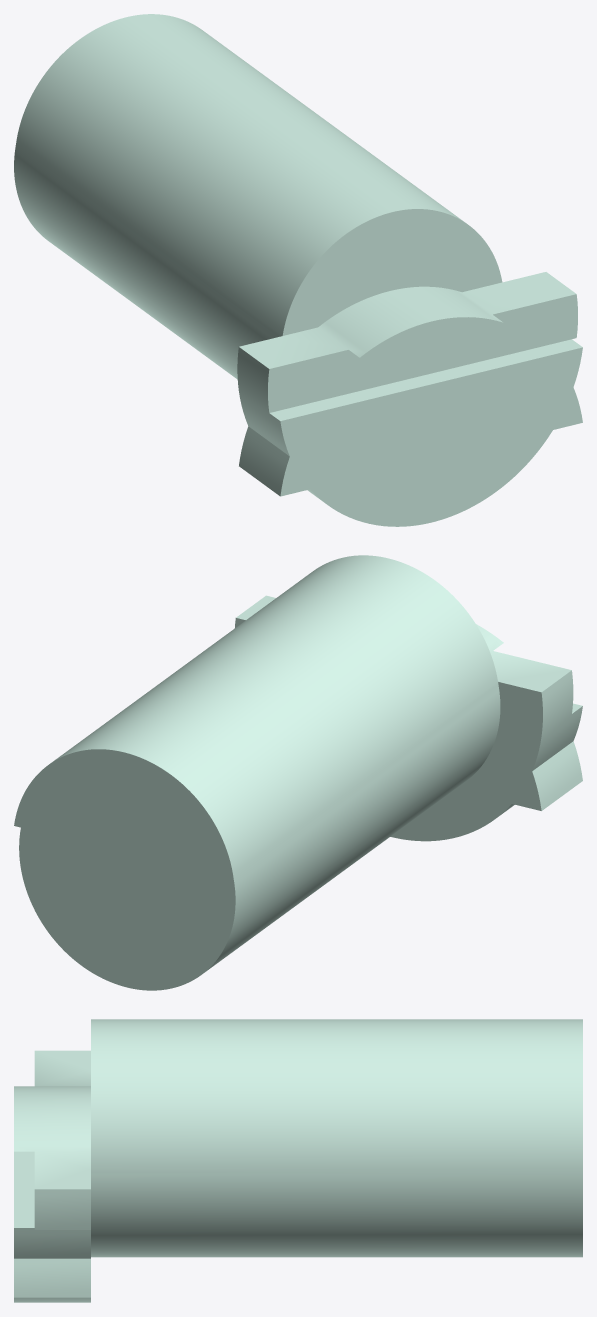
3 views of the same model, one above another, from view 1: azimuth 30°, elevation 25°; view 2: azimuth 150°, elevation 25°; view 3: azimuth 270°, elevation 25° (orthographic). The views are drawn at different scales.
Visible parts, largest first — view 1: Renderer Node; view 2: Renderer Node; view 3: Renderer Node.
Boxes of the visible parts, left/top/right/bottom form: Renderer Node: left=14, top=14, right=582, bottom=526; Renderer Node: left=14, top=555, right=582, bottom=990; Renderer Node: left=14, top=1019, right=582, bottom=1302.
Size of the model in its own units: 0.5046 by 0.4343 by 0.8672.
